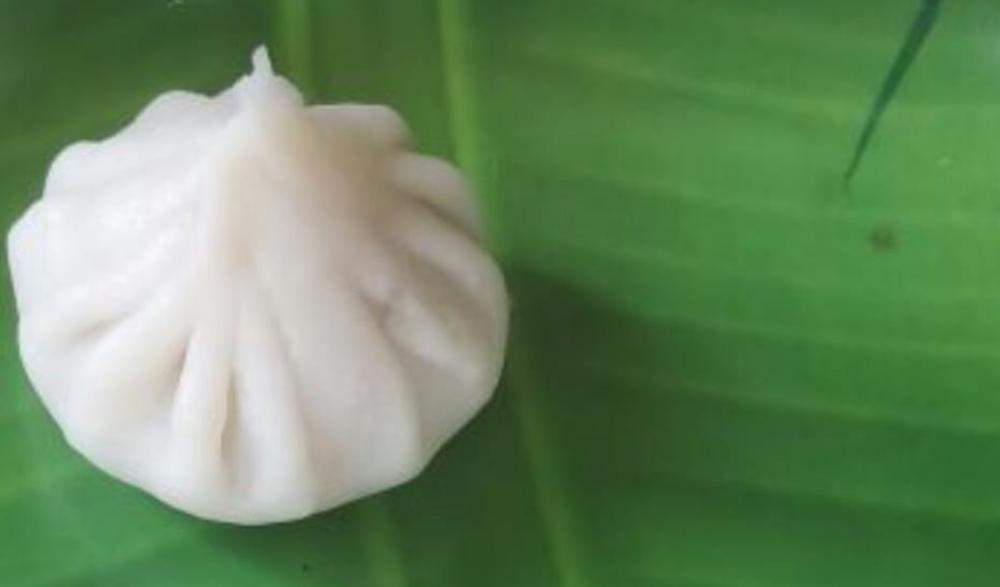modak: (11, 59, 550, 551)
